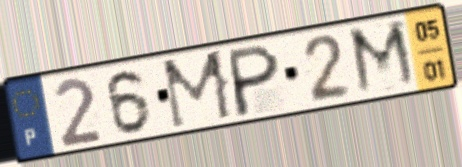2: (50, 74, 106, 151), (301, 33, 354, 106)
6: (104, 67, 154, 136)
M: (158, 46, 237, 133), (345, 16, 422, 99)
P: (228, 41, 282, 120)
